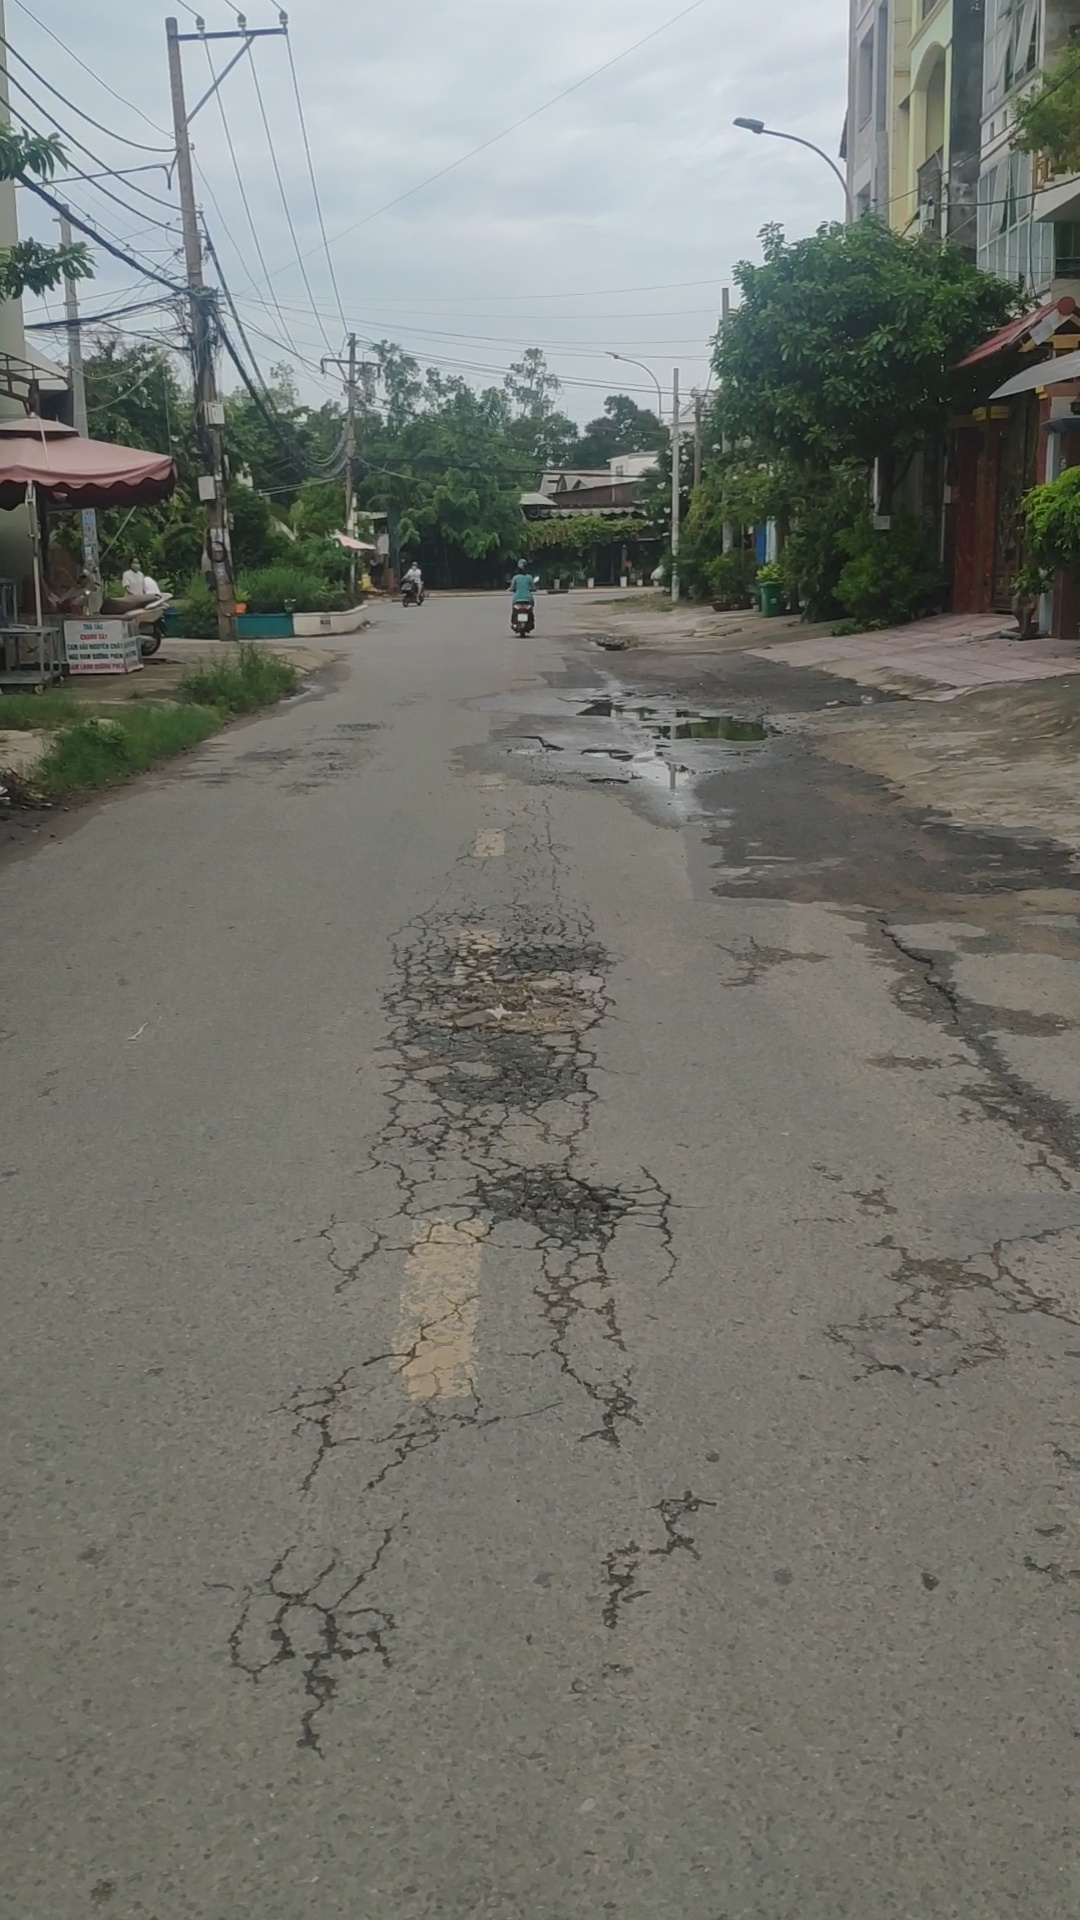hole: (406, 916, 617, 1131), (460, 1164, 654, 1259), (644, 700, 782, 749), (560, 691, 661, 720), (636, 757, 702, 790), (501, 731, 566, 760), (576, 634, 638, 655), (579, 744, 632, 760), (331, 719, 386, 733), (583, 775, 629, 789)
